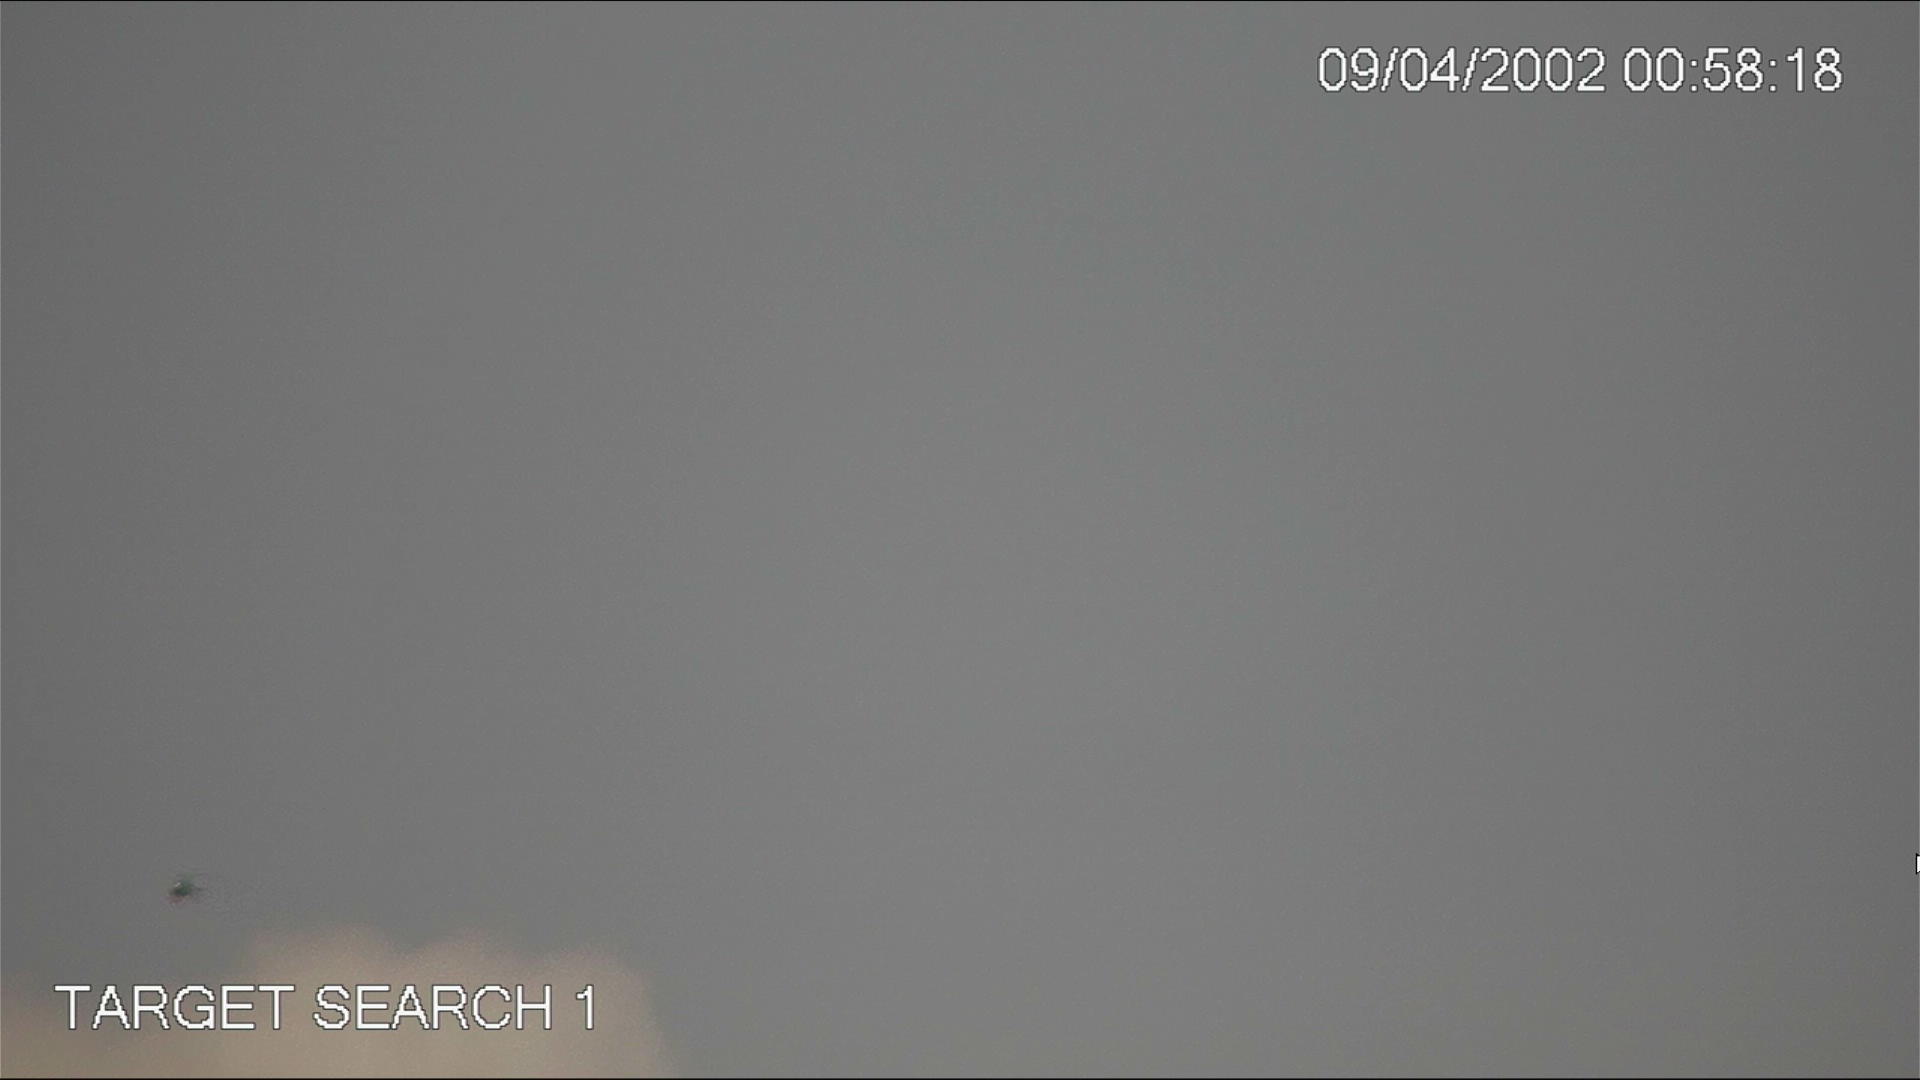SU_30: (166, 876, 199, 895)
